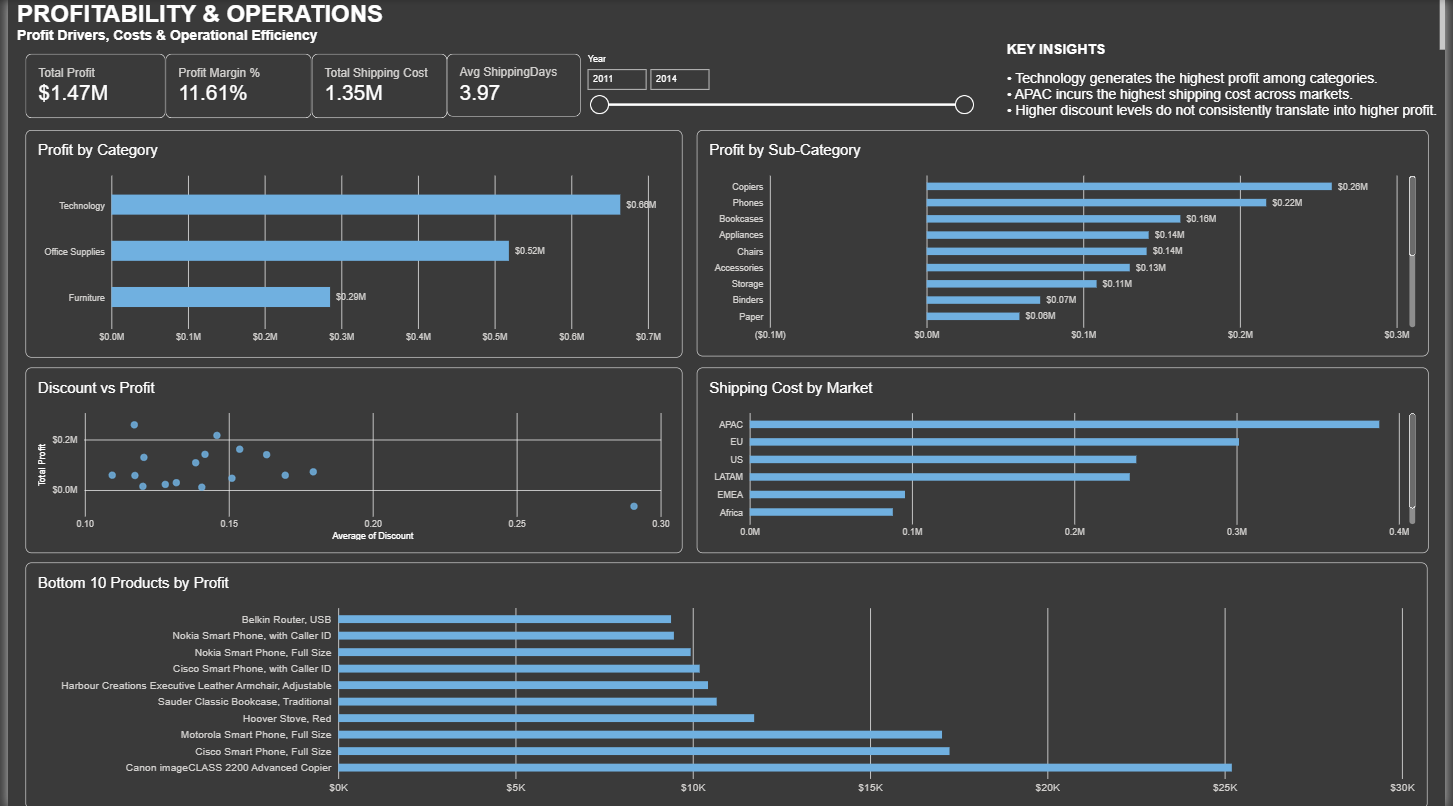

The dashboard page shown, as its layout file describes it:
{"tool":"powerbi","page":{"name":"Profitability & Operations","canvas":[1920,1080],"ordinal":2},"visuals":[{"type":"textbox","box":[10.9,0,1909.2,70.6],"z":0},{"type":"cardVisual","fields":{"Data":["_Measures.Total Profit"]},"box":[22.6,72,187.3,86.4],"z":1},{"type":"cardVisual","fields":{"Data":["_Measures.Profit Margin %"]},"box":[209.9,72,195.5,86.4],"z":2},{"type":"cardVisual","fields":{"Data":["_Measures.Total Shipping Cost"]},"box":[405.5,72,181.1,86.4],"z":3},{"type":"cardVisual","fields":{"Data":["_Measures.Avg ShippingDays"]},"box":[586.6,72,179.1,84.4],"z":4},{"type":"slicer","fields":{"Values":["DimDate.Year"]},"box":[765.7,72,526.9,86.4],"z":5},{"type":"clusteredBarChart","title":"Profit by Category","fields":{"Category":["DimProduct.Category"],"Y":["_Measures.Total Profit"]},"box":[23.5,173.7,877.7,304],"z":6},{"type":"clusteredBarChart","title":"Profit by Sub-Category","fields":{"Category":["DimProduct.Sub.Category"],"Y":["_Measures.Total Profit"]},"box":[919.3,173.7,977.2,302.2],"z":7},{"type":"scatterChart","title":"Discount vs Profit","fields":{"X":["Avg(FactSales.Discount)"],"Y":["_Measures.Total Profit"],"Category":["DimProduct.Sub.Category"]},"box":[23.5,490.4,877.7,247.9],"z":8},{"type":"clusteredBarChart","title":"Shipping Cost by Market","fields":{"Y":["_Measures.Total Shipping Cost"],"Category":["DimGeography.Market"]},"box":[919.3,490.4,977.2,247.9],"z":9},{"type":"clusteredBarChart","title":"Bottom 10 Products by Profit","fields":{"Y":["_Measures.Total Profit"],"Category":["DimProduct.Product.Name"]},"box":[23.5,751,1873,329.4],"z":10},{"type":"textbox","box":[1333.8,55.6,586.6,197.6],"z":11}]}

Visuals, with their boxes in screenshot pixels (x1, y1, x2, y2), scaled from the page's 1920x1080 canvas onto the 1453x806 screenshot:
textbox: (8, 0, 1452, 53)
cardVisual - _Measures.Total Profit: (17, 54, 159, 118)
cardVisual - _Measures.Profit Margin %: (159, 54, 307, 118)
cardVisual - _Measures.Total Shipping Cost: (307, 54, 444, 118)
cardVisual - _Measures.Avg ShippingDays: (444, 54, 579, 117)
slicer - DimDate.Year: (579, 54, 978, 118)
"Profit by Category" clusteredBarChart: (18, 130, 682, 357)
"Profit by Sub-Category" clusteredBarChart: (696, 130, 1435, 355)
"Discount vs Profit" scatterChart: (18, 366, 682, 551)
"Shipping Cost by Market" clusteredBarChart: (696, 366, 1435, 551)
"Bottom 10 Products by Profit" clusteredBarChart: (18, 560, 1435, 805)
textbox: (1009, 41, 1452, 189)
